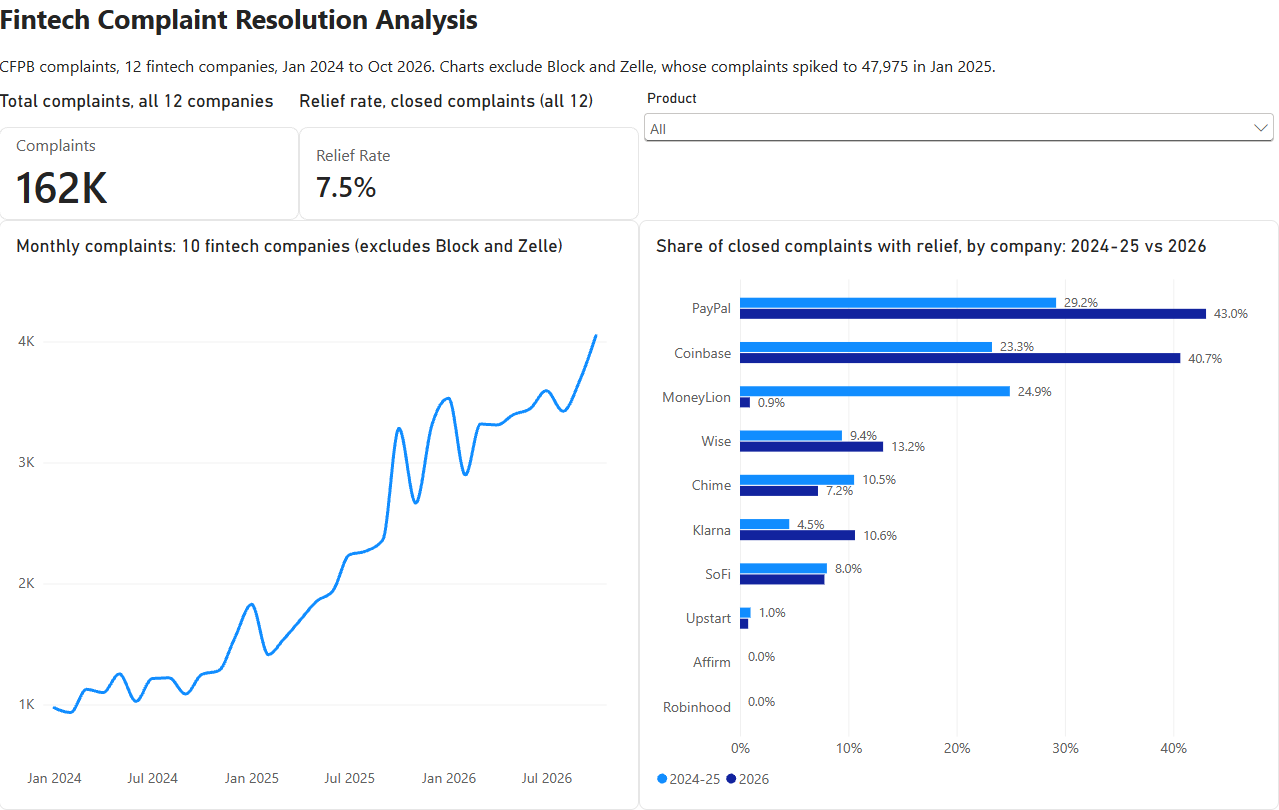

What the dashboard file says about the page in this screenshot:
{"tool":"powerbi","page":{"name":"Page 1","canvas":[1280,810],"ordinal":0},"visuals":[{"type":"lineChart","title":"Monthly complaints: 10 fintech companies (excludes Block and Zelle)","fields":{"Category":["fintech_clean.Month"],"Y":["fintech_clean.Complaints"]},"box":[0,220,640,590],"z":0},{"type":"clusteredBarChart","title":"Share of closed complaints with relief, by company: 2024-25 vs 2026","fields":{"Category":["fintech_clean.company_clean"],"Series":["fintech_clean.Period"],"Y":["fintech_clean.Relief Rate"]},"box":[640,220,640,590],"z":1000},{"type":"cardVisual","title":"Total complaints, all 12 companies","fields":{"Data":["fintech_clean.Complaints"]},"box":[0,90,300,130],"z":1001},{"type":"cardVisual","title":"Relief rate, closed complaints (all 12)","fields":{"Data":["fintech_clean.Relief Rate"]},"box":[300,90,340,130],"z":1002},{"type":"slicer","fields":{"Values":["fintech_clean.product"]},"box":[640,90,640,130],"z":1003},{"type":"textbox","box":[0,0,1280,90],"z":1004}]}

Visuals, with their boxes in screenshot pixels (x1, y1, x2, y2), scaled from the page's 1280x810 canvas onto the 1279x810 screenshot:
"Monthly complaints: 10 fintech companies (excludes Block and Zelle)" lineChart: crop(0, 220, 640, 809)
"Share of closed complaints with relief, by company: 2024-25 vs 2026" clusteredBarChart: crop(640, 220, 1278, 809)
"Total complaints, all 12 companies" cardVisual: crop(0, 90, 300, 220)
"Relief rate, closed complaints (all 12)" cardVisual: crop(300, 90, 640, 220)
slicer - fintech_clean.product: crop(640, 90, 1278, 220)
textbox: crop(0, 0, 1278, 90)
